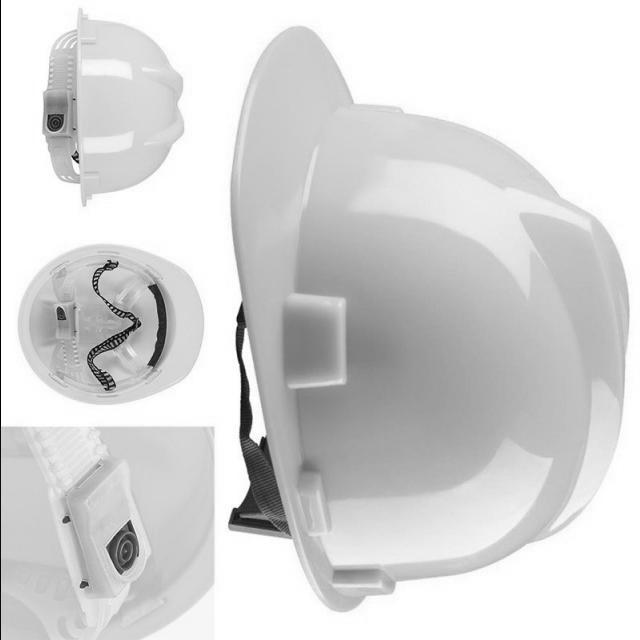safety_helmet: (226, 25, 629, 614)
